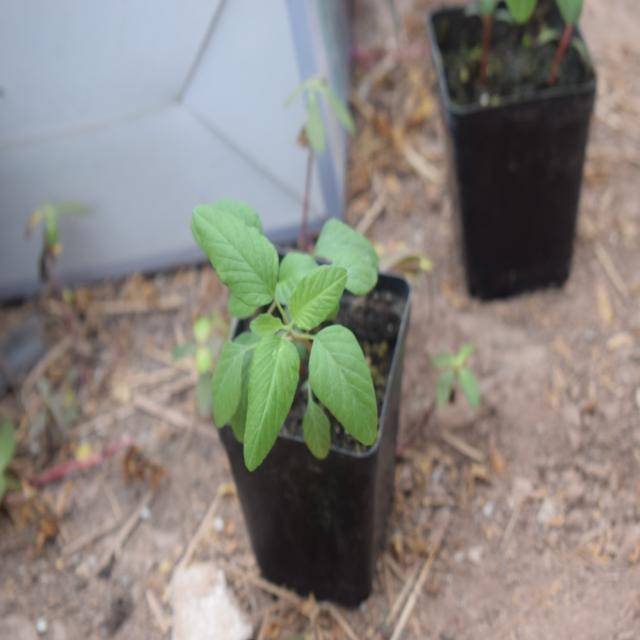pigweed: (175, 204, 398, 477)
